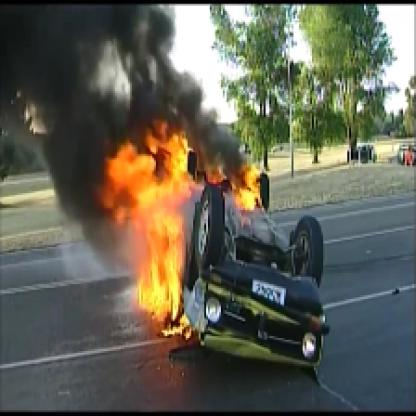Fire: (95, 112, 271, 346)
